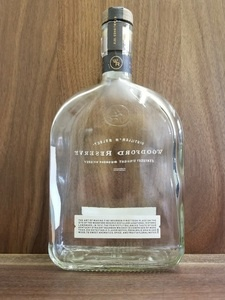emptybottle: (49, 7, 185, 272)
